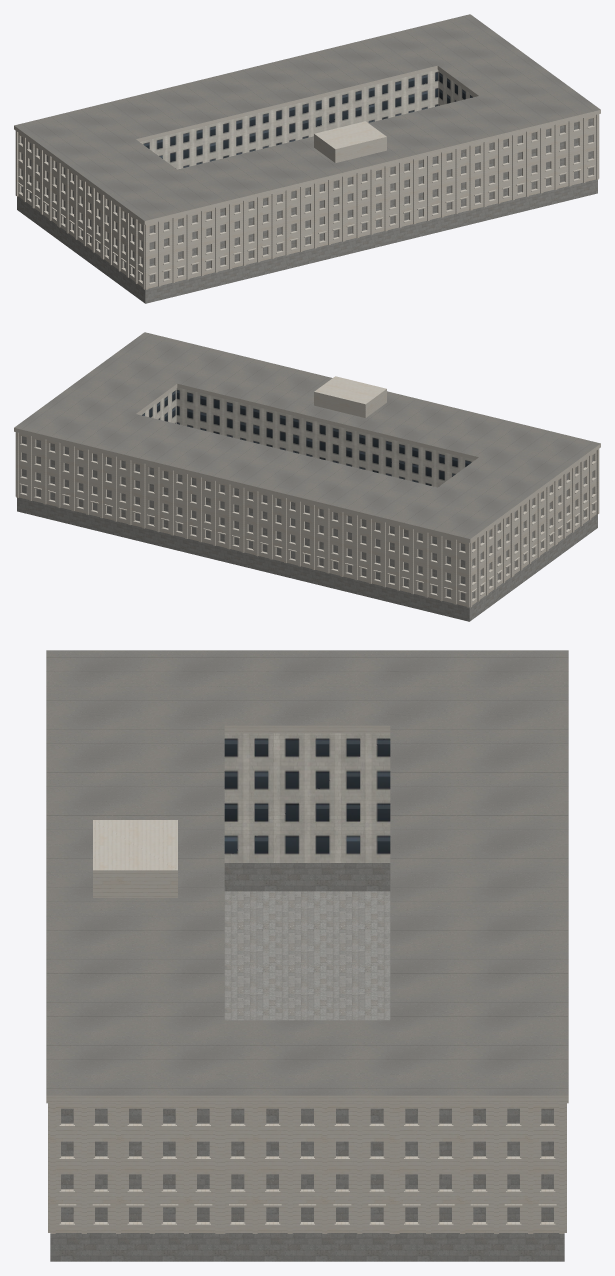
File: loc_adams.glb
3 views of the same model, one above another, from view 1: azimuth 30°, elevation 25°; view 2: azimuth 150°, elevation 25°; view 3: azimuth 270°, elevation 25° (orthographic). The views are drawn at different scales.
Parts seen in each view (by area): view 1: loc_adams; view 2: loc_adams; view 3: loc_adams.
Boxes of the visible parts, x1,y1,x2,y2 form: loc_adams: (14, 14, 600, 303); loc_adams: (14, 332, 600, 621); loc_adams: (46, 650, 568, 1261).
Bounding box in the file's own units: 124 × 25.4 × 61.49.
4 materials, 4 textured.
